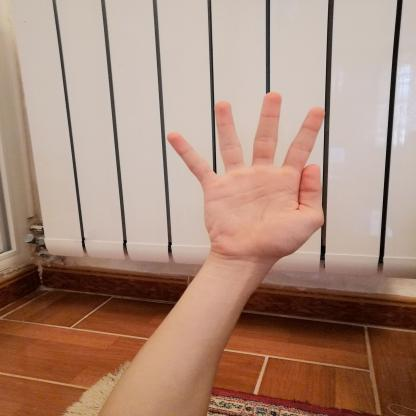SHEEN: (147, 86, 352, 264)
